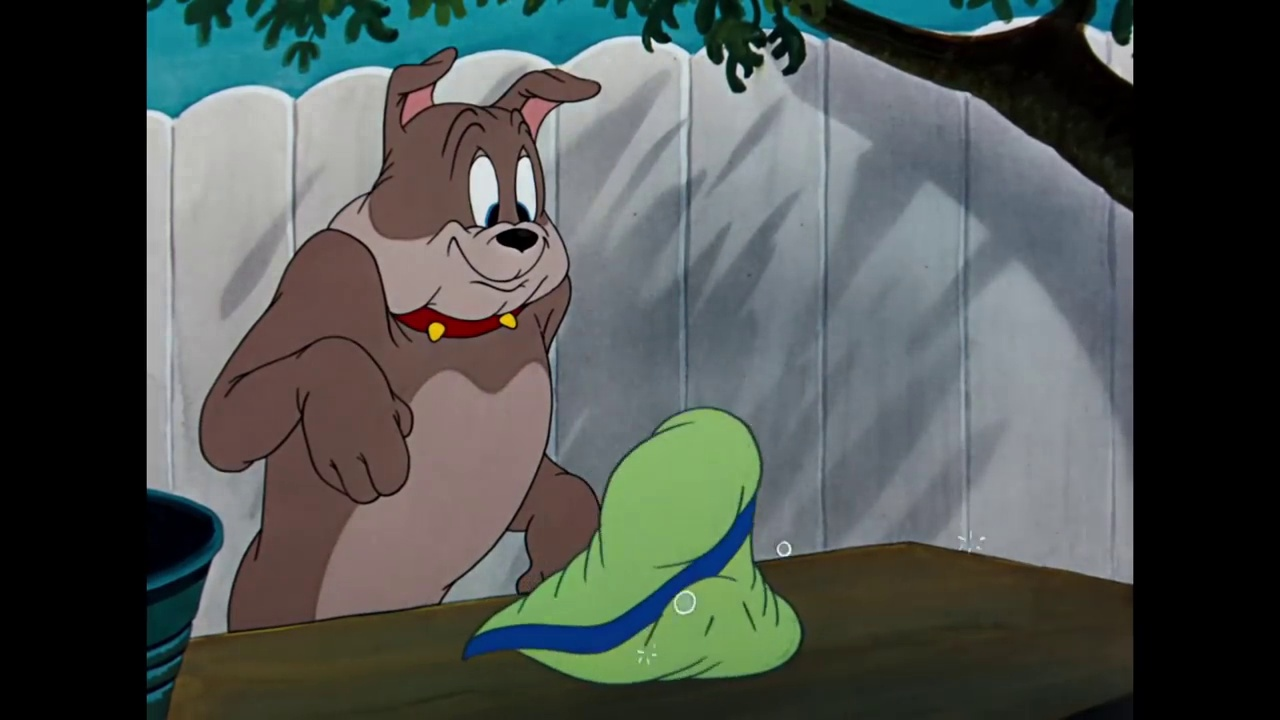spike: (322, 45, 603, 343)
